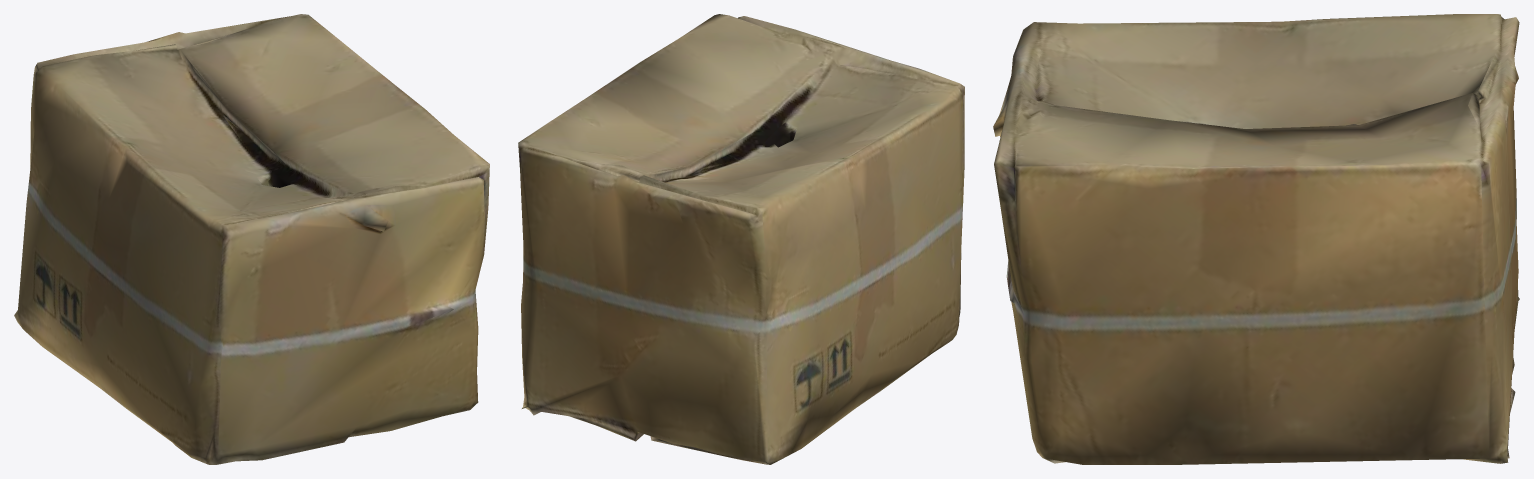
The model's file is cardboard_box_01.glb.
The picture shows the model from 3 angles, left to right: view 1: azimuth 30°, elevation 25°; view 2: azimuth 150°, elevation 25°; view 3: azimuth 270°, elevation 25°; orthographic projection. The views are drawn at different scales.
Parts seen in each view (by area): view 1: cardboard_box_01; view 2: cardboard_box_01; view 3: cardboard_box_01.
Part boxes in pixels (x1,y1,x2,y2): cardboard_box_01: (14,14,489,464); cardboard_box_01: (518,14,964,464); cardboard_box_01: (993,14,1519,464).
Bounding box in the file's own units: 0.3855 × 0.3407 × 0.5159.
Materials: 1 (1 with a texture image).
